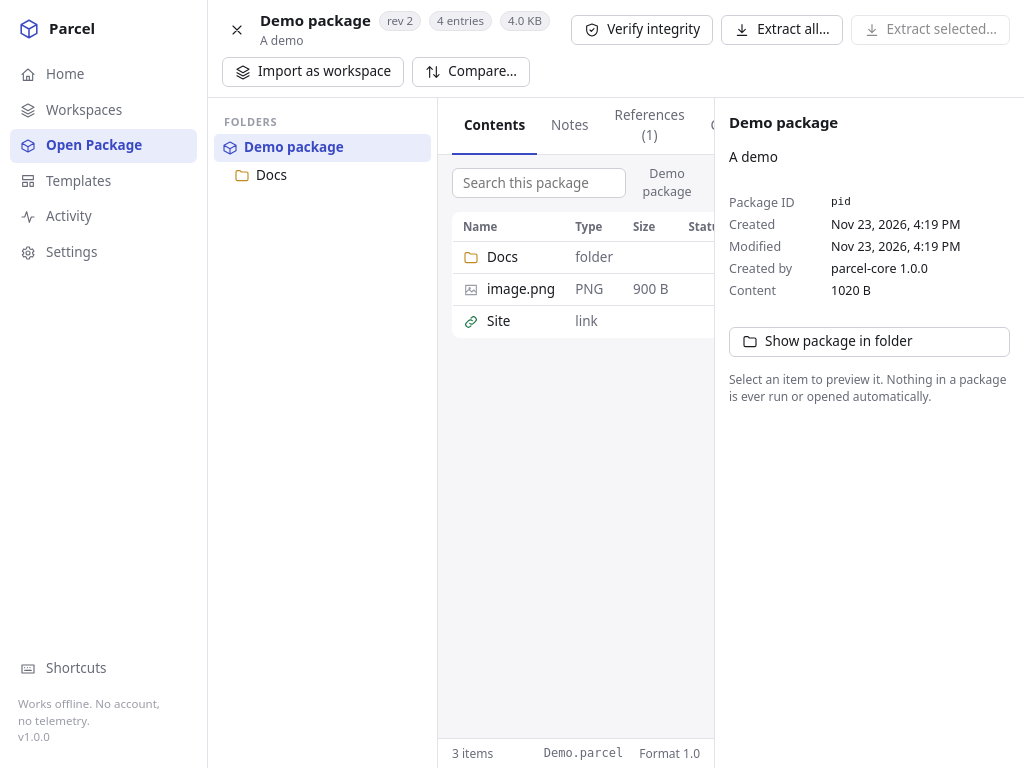
Test: show in folder › shows an error toast when revealing fails
Click the button "Show package in folder": (870, 342) top-left (729, 327), bottom-right (1010, 357)
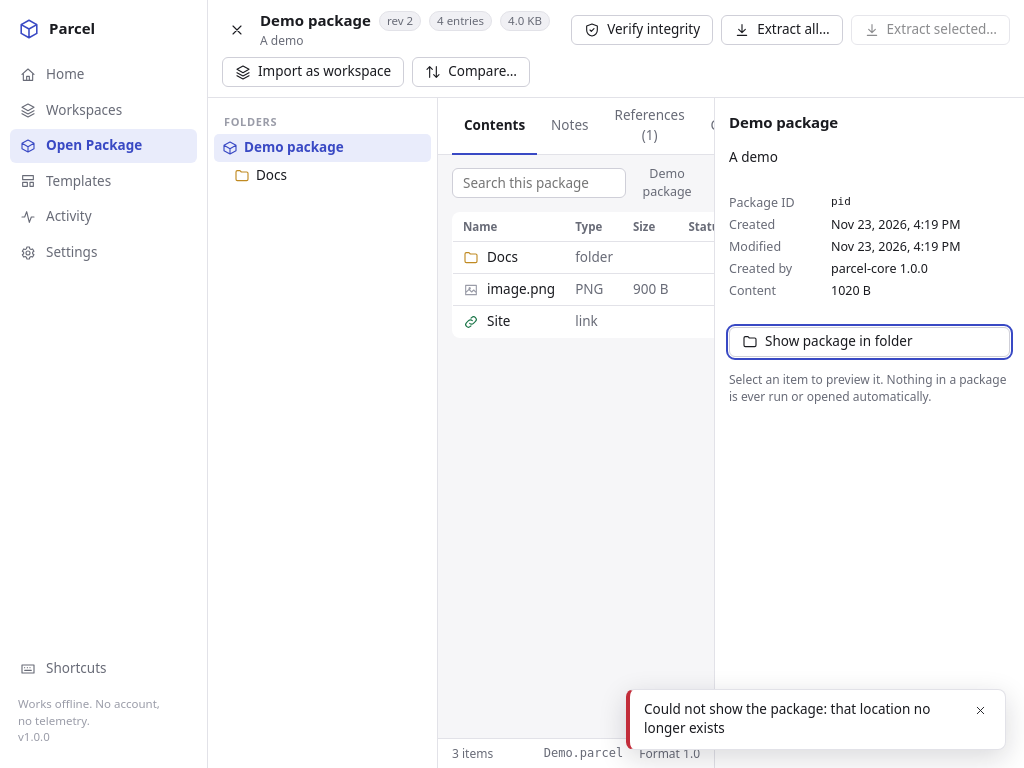
Result: the text "Could not show the package: that location no longer exists" is shown at top-left (644, 700), bottom-right (959, 739)
